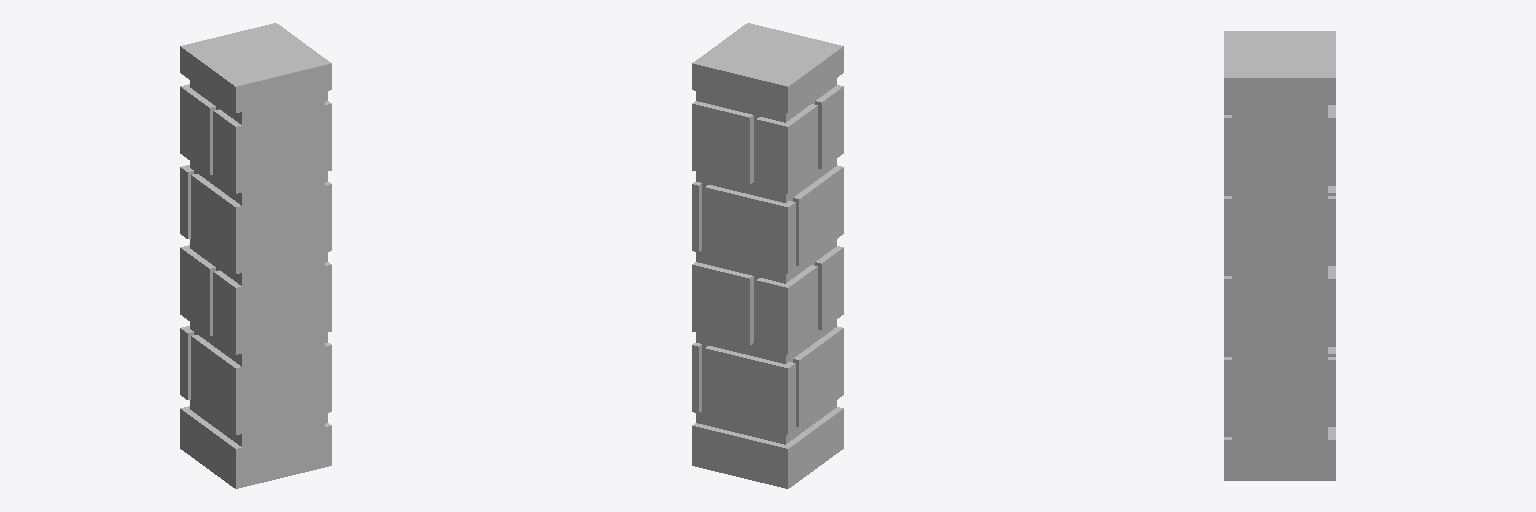
The model's file is WallCorner2.obj.
The picture shows the model from 3 angles: view 1: azimuth 30°, elevation 25°; view 2: azimuth 150°, elevation 25°; view 3: azimuth 270°, elevation 25°; orthographic projection.
Visible parts, largest first — view 1: object 1; view 2: object 1; view 3: object 1.
Boxes of the visible parts, x1=… form: object 1: x1=180, y1=23, x2=331, y2=488; object 1: x1=692, y1=23, x2=843, y2=488; object 1: x1=1224, y1=31, x2=1335, y2=480.
Bounding box in the file's own units: 1.5 × 6 × 1.5.